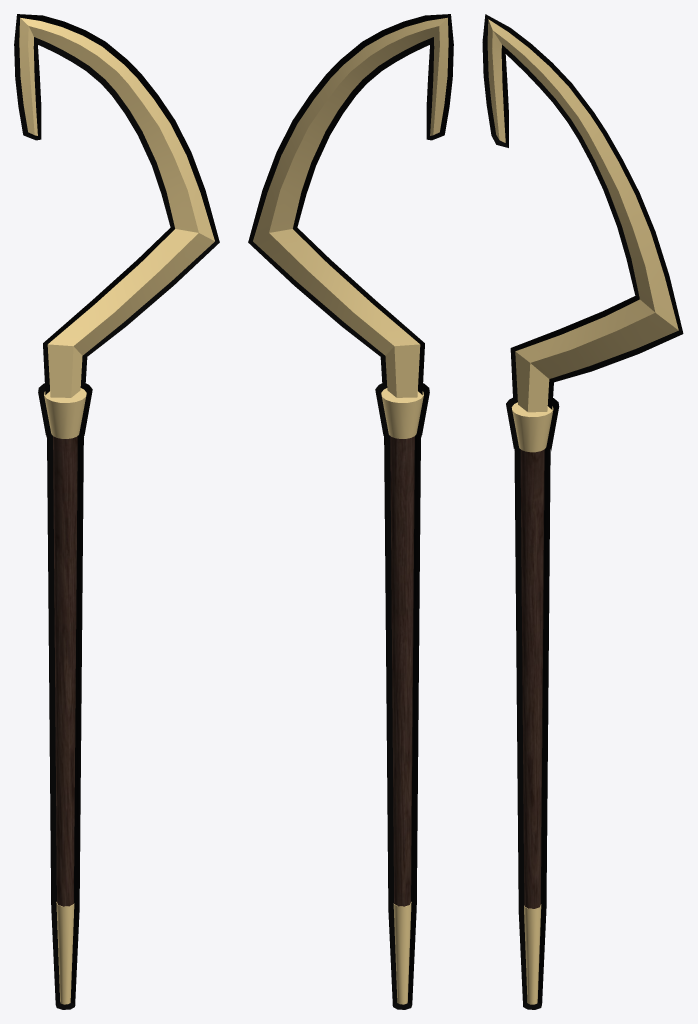
The model's file is sly-cane.glb.
The picture shows the model from 3 angles, left to right: view 1: azimuth 30°, elevation 25°; view 2: azimuth 150°, elevation 25°; view 3: azimuth 330°, elevation 25°; orthographic projection. The views are drawn at different scales.
Parts seen in each view (by area): view 1: Cane.002_meshId2_name.002; view 2: Cane.002_meshId2_name.002; view 3: Cane.002_meshId2_name.002.
Part boxes in pixels (left/top/right/bottom): Cane.002_meshId2_name.002: left=14, top=14, right=219, bottom=1009; Cane.002_meshId2_name.002: left=248, top=14, right=453, bottom=1009; Cane.002_meshId2_name.002: left=482, top=14, right=683, bottom=1009.
Size of the model in its own units: 0.3412 by 1.59 by 0.0791.
2 materials, 2 textured.
